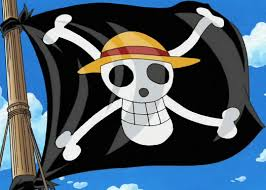Jolly Roger Flag: (19, 1, 266, 183)
